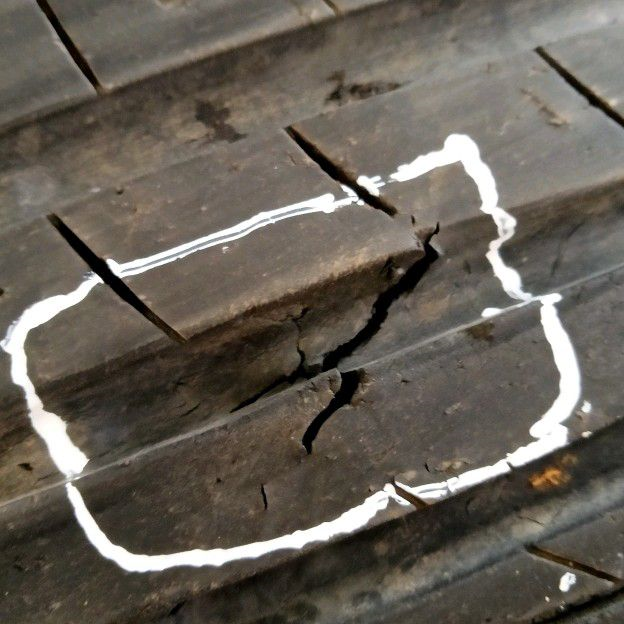tr: (222, 209, 444, 463)
